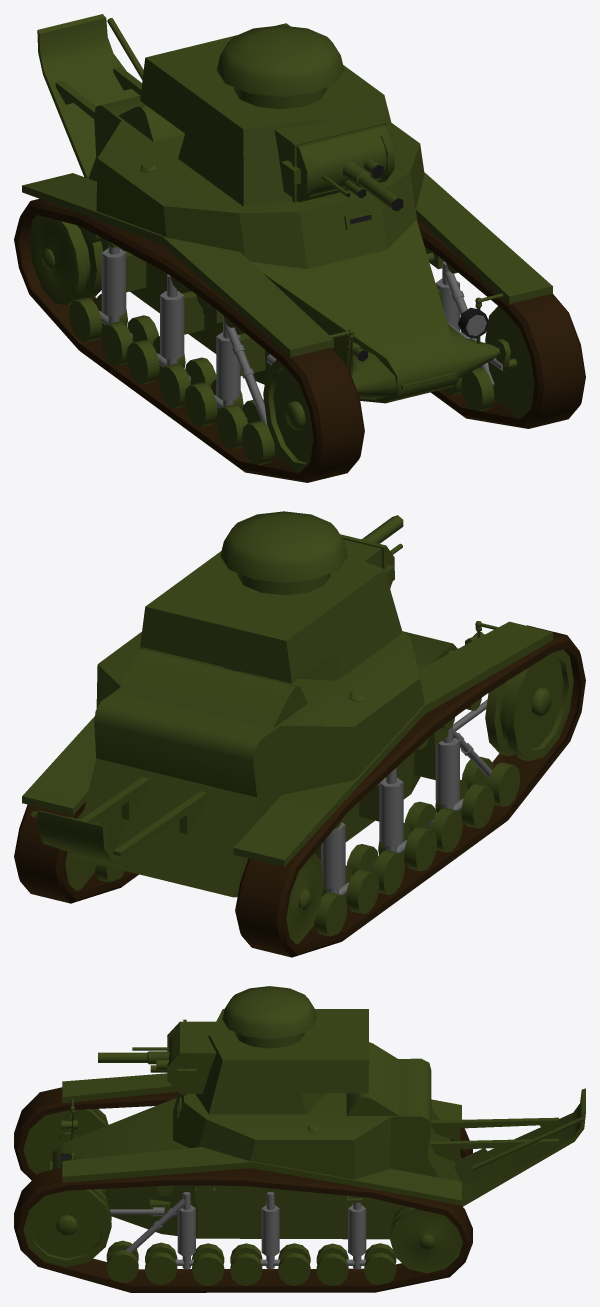
3 views of the same model, one above another, from view 1: azimuth 30°, elevation 25°; view 2: azimuth 150°, elevation 25°; view 3: azimuth 270°, elevation 25° (orthographic). The views are drawn at different scales.
Parts seen in each view (by area): view 1: Body_UV.004, Tower_UV.001, RightTrack_Circle.015, LeftTrack_Circle.001, RightWheel9_Circle.000, Gun_UV.008, RightWheel1_Circle.023, LeftWheel1_Circle.002, RightWheel5_Circle.019, RightWheel7_Circle.021, RightWheel6_Circle.020, RightWheel8_Circle.022 (+4 smaller); view 2: Body_UV.004, Tower_UV.001, RightTrack_Circle.015, RightWheel1_Circle.023, LeftTrack_Circle.001, RightWheel9_Circle.000, RightWheel6_Circle.020, RightWheel4_Circle.018, RightWheel2_Circle.016, RightWheel3_Circle.017, RightWheel5_Circle.019, RightWheel7_Circle.021 (+3 smaller); view 3: Body_UV.004, Tower_UV.001, LeftTrack_Circle.001, LeftWheel1_Circle.002, LeftWheel9_Circle.010, RightTrack_Circle.015, RightWheel1_Circle.023, Gun_UV.008, LeftWheel6_Circle.007, LeftWheel5_Circle.006, LeftWheel3_Circle.004, LeftWheel7_Circle.008 (+3 smaller).
Part boxes in pixels (<box>): Body_UV.004: <box>22,14,552,425</box>; Tower_UV.001: <box>140,23,402,206</box>; RightTrack_Circle.015: <box>14,199,364,482</box>; LeftTrack_Circle.001: <box>416,219,585,428</box>; RightWheel9_Circle.000: <box>29,215,102,305</box>; Gun_UV.008: <box>309,136,403,211</box>; RightWheel1_Circle.023: <box>263,359,313,472</box>; LeftWheel1_Circle.002: <box>485,306,534,417</box>; RightWheel5_Circle.019: <box>158,357,216,408</box>; RightWheel7_Circle.021: <box>101,315,158,366</box>; RightWheel6_Circle.020: <box>126,336,185,384</box>; RightWheel8_Circle.022: <box>69,294,127,342</box>; Body_UV.004: <box>22,621,552,897</box>; Tower_UV.001: <box>140,511,402,683</box>; RightTrack_Circle.015: <box>235,625,585,957</box>; RightWheel1_Circle.023: <box>485,649,573,760</box>; LeftTrack_Circle.001: <box>14,801,138,903</box>; RightWheel9_Circle.000: <box>286,853,323,943</box>; RightWheel6_Circle.020: <box>347,844,404,894</box>; RightWheel4_Circle.018: <box>404,801,462,852</box>; RightWheel2_Circle.016: <box>462,756,520,806</box>; RightWheel3_Circle.017: <box>435,779,494,828</box>; RightWheel5_Circle.019: <box>378,823,437,871</box>; RightWheel7_Circle.021: <box>322,865,379,913</box>; Body_UV.004: <box>50,1042,585,1269</box>; Tower_UV.001: <box>167,986,368,1114</box>; LeftTrack_Circle.001: <box>14,1167,472,1292</box>; LeftWheel1_Circle.002: <box>23,1189,111,1267</box>; LeftWheel9_Circle.010: <box>390,1206,462,1273</box>; RightTrack_Circle.015: <box>14,1087,472,1180</box>; RightWheel1_Circle.023: <box>23,1109,108,1174</box>; Gun_UV.008: <box>98,1031,175,1072</box>; LeftWheel6_Circle.007: <box>278,1243,310,1285</box>; LeftWheel5_Circle.006: <box>230,1243,262,1285</box>; LeftWheel3_Circle.004: <box>145,1242,177,1285</box>; LeftWheel7_Circle.008: <box>316,1243,348,1285</box>.
Bounding box in the file's own units: 175 × 208 × 435.
